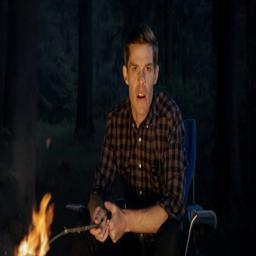fire: (17, 195, 54, 256)
